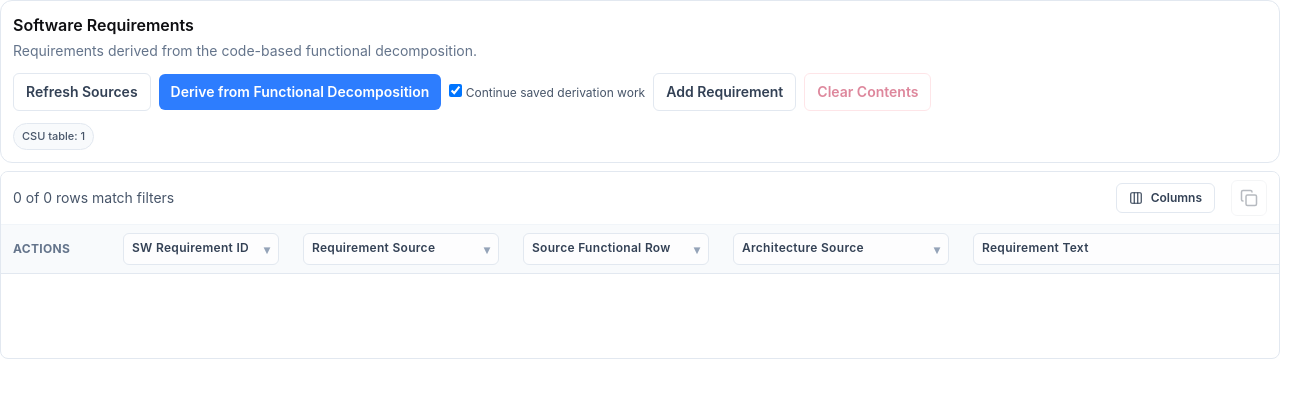
it: storage preflight failure prevents model requests
Click the button "Derive from Functional Decomposition": (300, 92) [159,74,441,110]
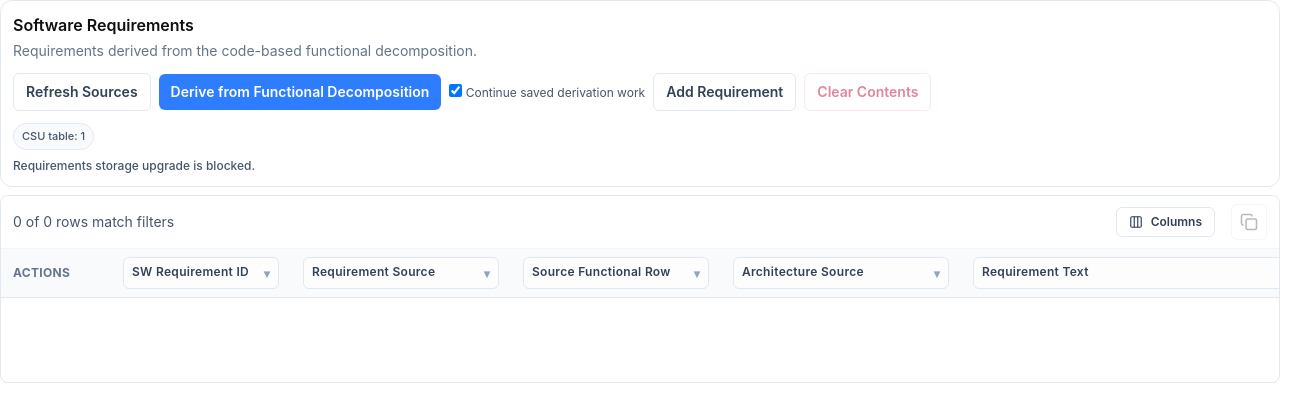
Check: the text "storage upgrade is blocked" is shown, box [13,158,255,172]
